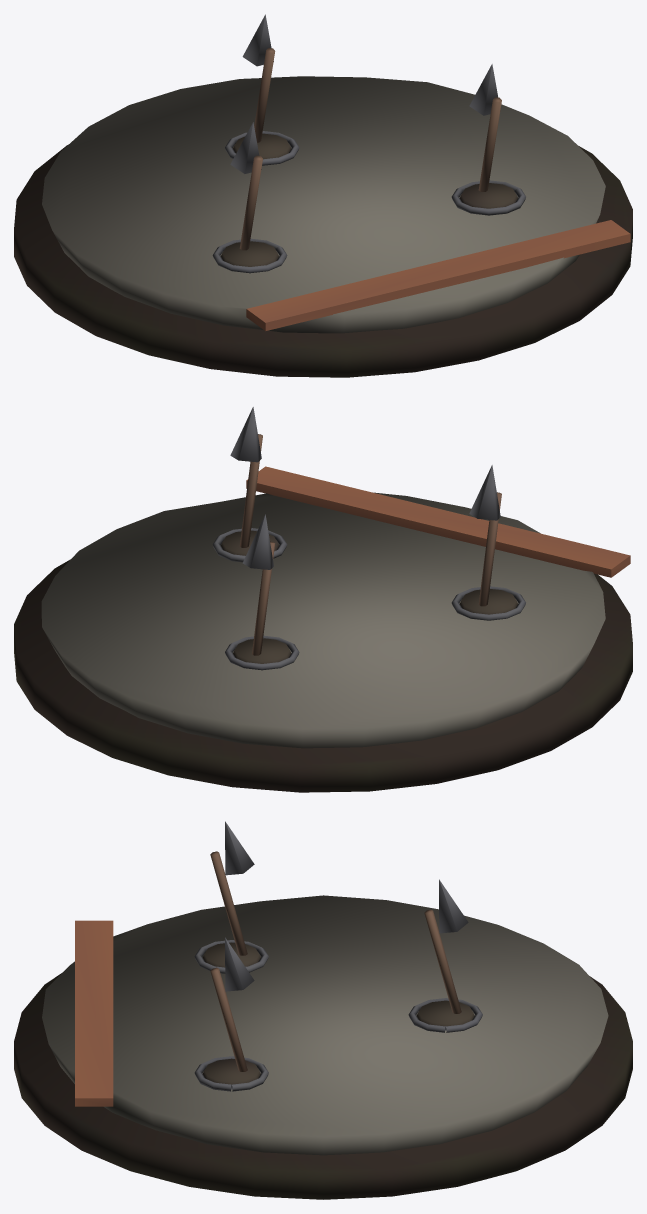
File: kit_trap1.glb
3 views of the same model, one above another, from view 1: azimuth 30°, elevation 25°; view 2: azimuth 150°, elevation 25°; view 3: azimuth 270°, elevation 25° (orthographic).
Parts seen in each view (by area): view 1: kit_trap1; view 2: kit_trap1; view 3: kit_trap1.
Part boxes in pixels (x1,y1,x2,y2): kit_trap1: (14,14,632,377); kit_trap1: (14,407,632,792); kit_trap1: (14,821,632,1199).
Size of the model in its own units: 0.81 by 0.2739 by 0.81.
